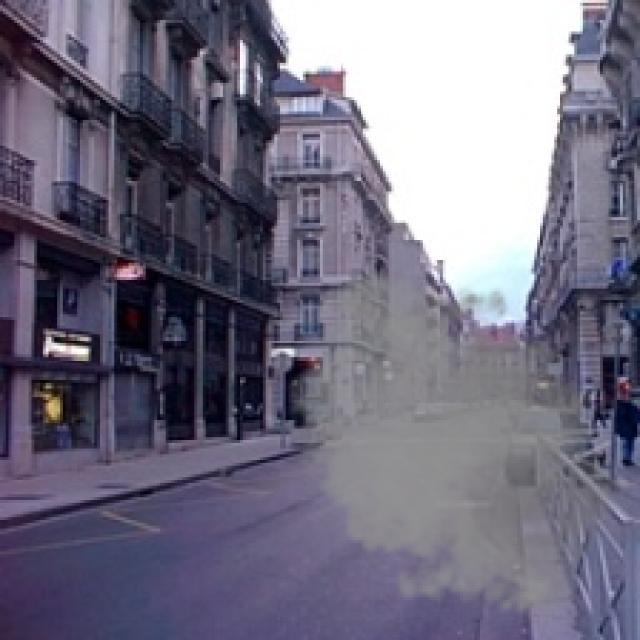Smoke: (277, 266, 637, 628)
